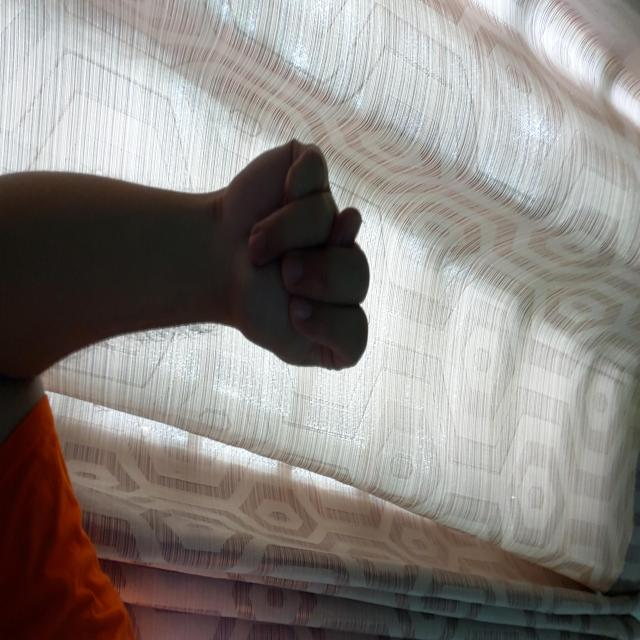N: (138, 268, 373, 424)
